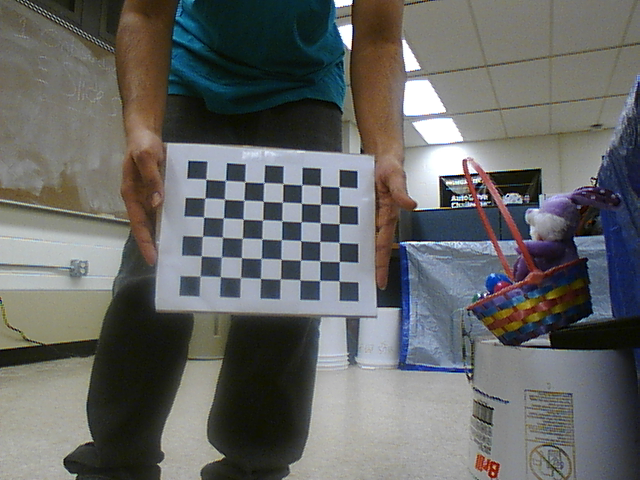bunny: (451, 153, 604, 342)
